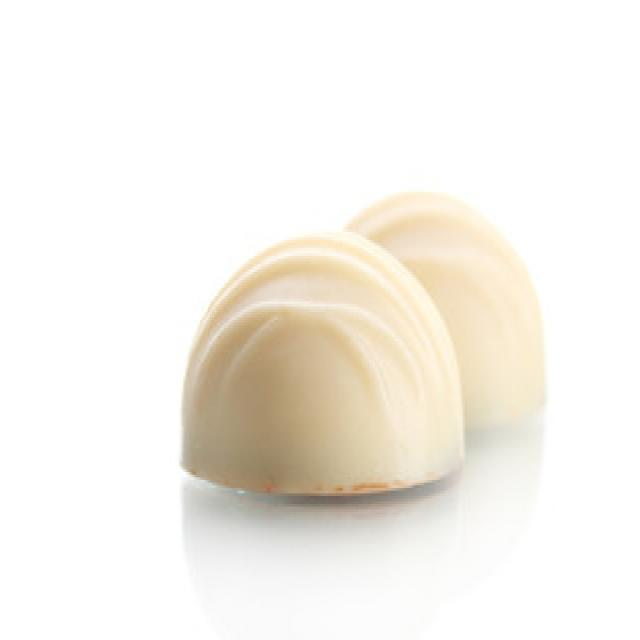Chocolate: (178, 191, 552, 505), (182, 229, 464, 493)
